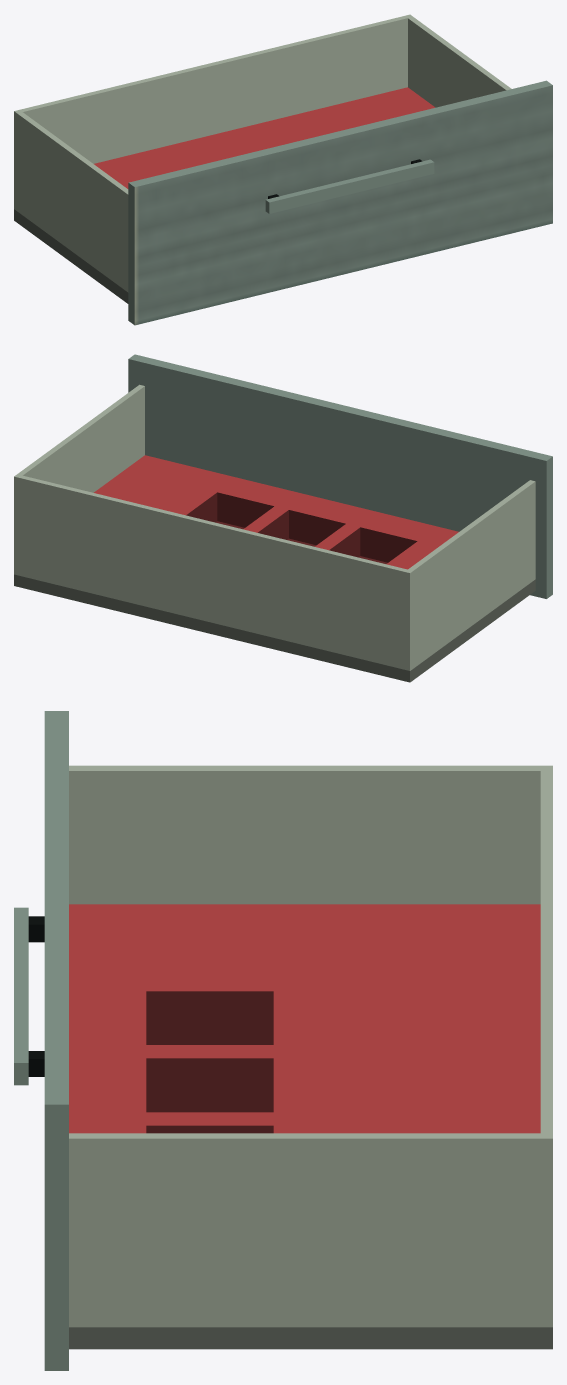
File: SM_LabCold_Cart_Drawer_76x44x24.fbx
3 views of the same model, one above another, from view 1: azimuth 30°, elevation 25°; view 2: azimuth 150°, elevation 25°; view 3: azimuth 270°, elevation 25° (orthographic). The views are drawn at different scales.
Parts seen in each view (by area): view 1: SM_LabCold_Cart_Drawer_76x44x24.001; view 2: SM_LabCold_Cart_Drawer_76x44x24.001; view 3: SM_LabCold_Cart_Drawer_76x44x24.001.
Boxes of the visible parts, x1,y1,x2,y2 form: SM_LabCold_Cart_Drawer_76x44x24.001: (14,14,552,325); SM_LabCold_Cart_Drawer_76x44x24.001: (14,354,552,682); SM_LabCold_Cart_Drawer_76x44x24.001: (14,711,552,1370).
Bounding box in the file's own units: 0.76 × 0.24 × 0.44.
